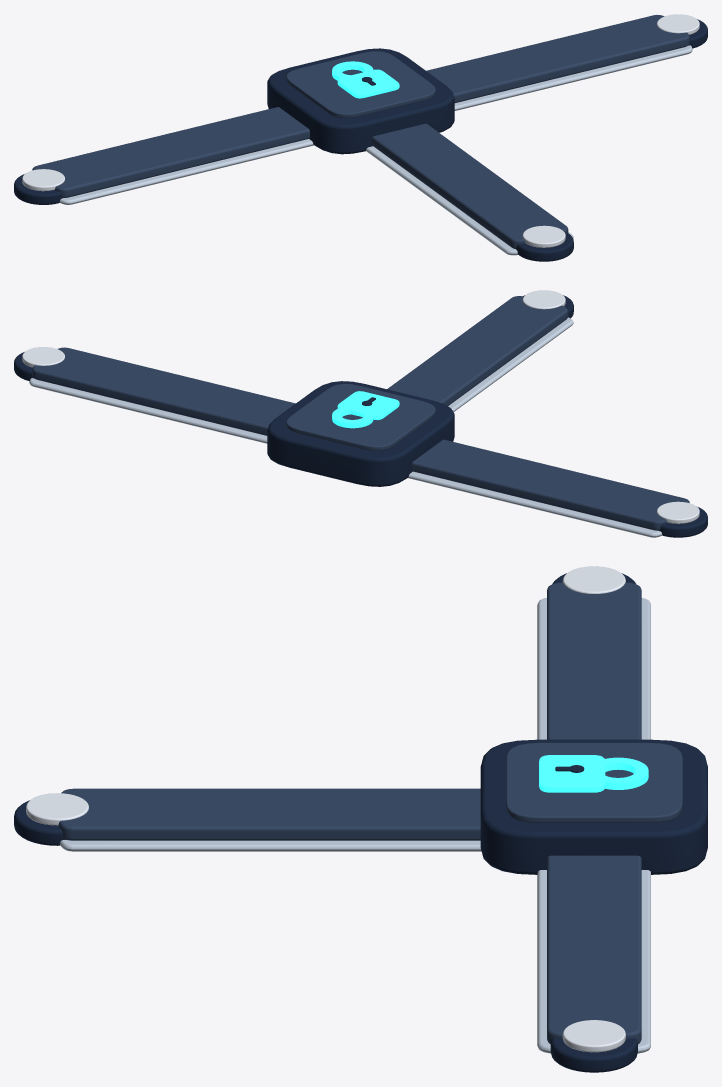
The model's file is AFJ_Lock_T.fbx.
3 views of the same model, one above another, from view 1: azimuth 30°, elevation 25°; view 2: azimuth 150°, elevation 25°; view 3: azimuth 270°, elevation 25° (orthographic). The views are drawn at different scales.
Parts seen in each view (by area): view 1: Strap.007, Strap.008, Strap.009, Lock_Housing.003, Lock_Face.003, Strap_Metal_Border.016, Strap_Metal_Border.017, Strap_Metal_Border.018, Lock_Icon_Body.003, Anchor_Base.009, Anchor_Cap.009, Anchor_Cap.007 (+3 smaller); view 2: Strap.007, Strap.008, Lock_Housing.003, Strap.009, Lock_Face.003, Strap_Metal_Border.016, Strap_Metal_Border.017, Strap_Metal_Border.018, Lock_Icon_Body.003, Anchor_Cap.007, Anchor_Base.007, Anchor_Cap.008 (+2 smaller); view 3: Strap.009, Strap.008, Strap.007, Lock_Housing.003, Lock_Face.003, Strap_Metal_Border.018, Strap_Metal_Border.017, Strap_Metal_Border.016, Lock_Icon_Body.003, Anchor_Base.008, Anchor_Cap.008, Anchor_Cap.009 (+3 smaller).
Boxes of the visible parts, <box> form: Strap.007: <box>32,107,309,197</box>; Strap.008: <box>426,15,689,102</box>; Strap.009: <box>371,123,568,248</box>; Lock_Housing.003: <box>267,48,454,154</box>; Lock_Face.003: <box>286,51,435,118</box>; Strap_Metal_Border.016: <box>59,139,313,204</box>; Strap_Metal_Border.017: <box>454,45,692,110</box>; Strap_Metal_Border.018: <box>366,146,573,255</box>; Lock_Icon_Body.003: <box>337,69,399,98</box>; Anchor_Base.009: <box>516,232,573,261</box>; Anchor_Cap.009: <box>522,225,565,247</box>; Anchor_Cap.007: <box>22,169,64,191</box>; Strap.007: <box>412,439,689,530</box>; Strap.008: <box>32,347,295,435</box>; Lock_Housing.003: <box>267,381,454,486</box>; Strap.009: <box>387,296,568,405</box>; Lock_Face.003: <box>286,384,435,450</box>; Strap_Metal_Border.016: <box>408,471,662,537</box>; Strap_Metal_Border.017: <box>29,378,267,443</box>; Strap_Metal_Border.018: <box>448,317,573,411</box>; Lock_Icon_Body.003: <box>337,391,399,420</box>; Anchor_Cap.007: <box>657,501,699,523</box>; Anchor_Base.007: <box>659,507,707,537</box>; Anchor_Cap.008: <box>22,347,64,367</box>; Strap.009: <box>58,788,480,840</box>; Strap.008: <box>547,855,641,1043</box>; Strap.007: <box>547,582,641,739</box>; Lock_Housing.003: <box>480,739,707,874</box>; Lock_Face.003: <box>506,742,682,822</box>; Strap_Metal_Border.018: <box>59,840,481,851</box>; Strap_Metal_Border.017: <box>537,870,650,1053</box>; Strap_Metal_Border.016: <box>537,598,650,739</box>; Lock_Icon_Body.003: <box>539,755,605,792</box>; Anchor_Base.008: <box>550,1038,637,1072</box>; Anchor_Cap.008: <box>562,1020,625,1052</box>; Anchor_Cap.009: <box>26,793,88,825</box>.
Bounding box in the file's own units: 184 × 10.6 × 110.
